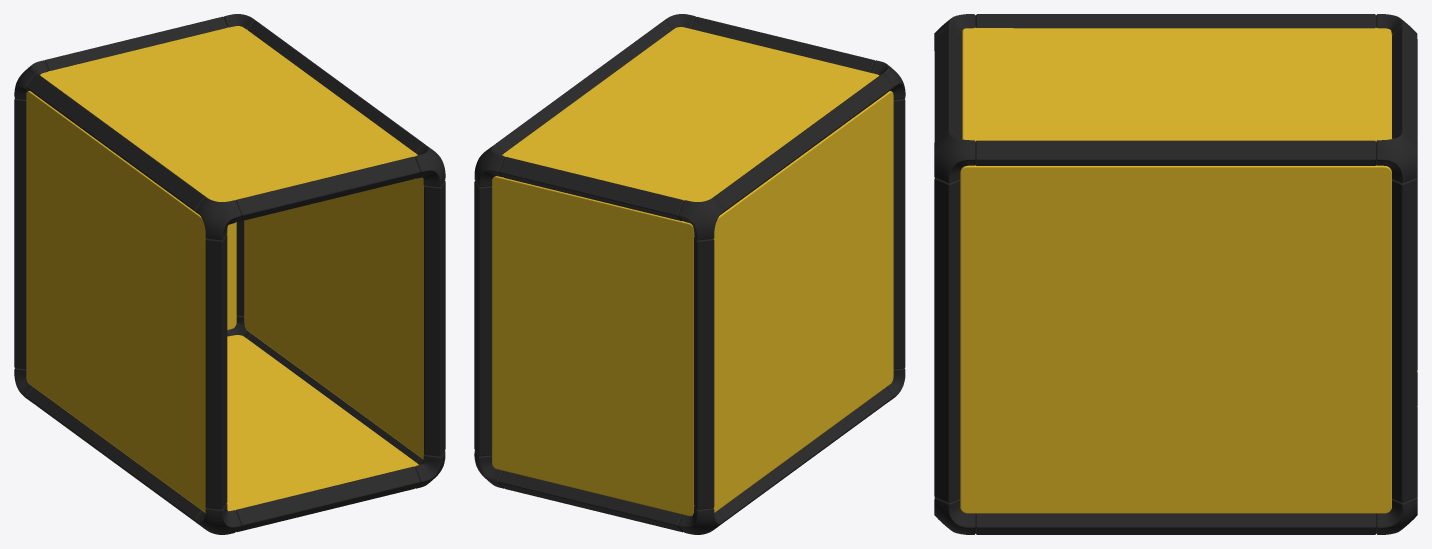
3 renders of one model, left to right at view 1: azimuth 30°, elevation 25°; view 2: azimuth 150°, elevation 25°; view 3: azimuth 270°, elevation 25°, orthographic. The views are drawn at different scales.
Visible parts, largest first — view 1: 229x374x329; view 2: 229x374x329; view 3: 229x374x329.
Part boxes in pixels (box(x1,y1,x2,y2)): 229x374x329: box(14, 14, 445, 534); 229x374x329: box(474, 14, 905, 534); 229x374x329: box(934, 14, 1417, 534).
Size of the model in its own units: 0.3067 by 0.4066 by 0.4513.
